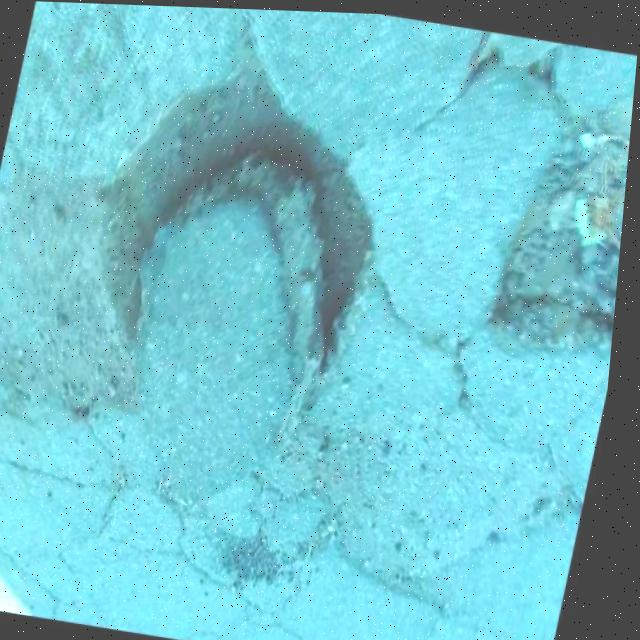Pothole: (61, 70, 448, 418), (487, 37, 638, 373), (196, 512, 343, 611)
